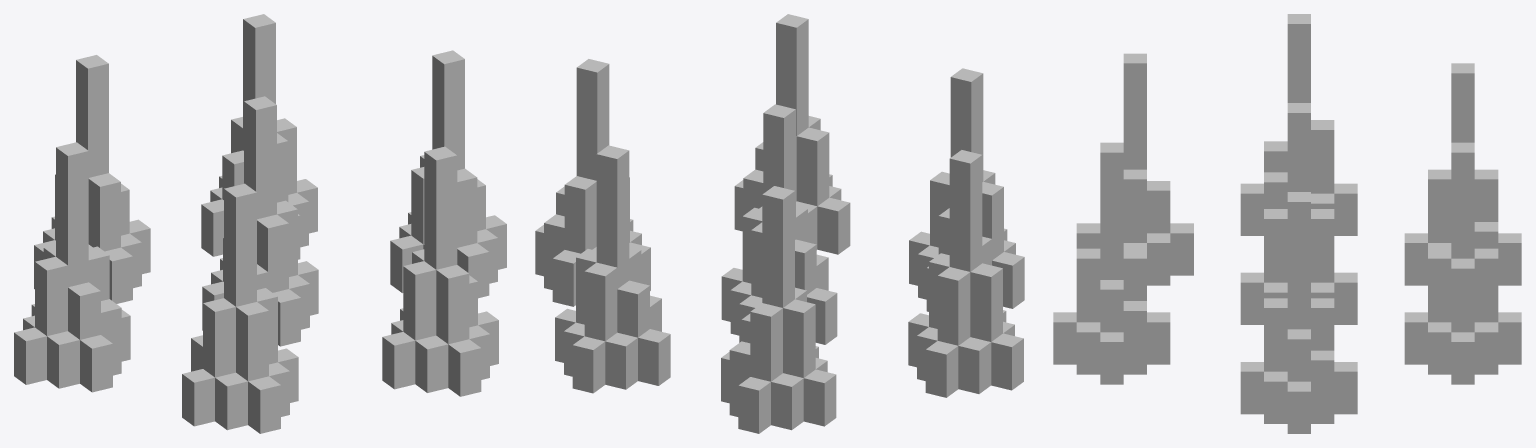
Rendered from Spike-0.obj.
The picture shows the model from 3 angles, left to right: view 1: azimuth 30°, elevation 25°; view 2: azimuth 150°, elevation 25°; view 3: azimuth 270°, elevation 25°; orthographic projection. The views are drawn at different scales.
Bounding box in the file's own units: 2.3 × 1 × 2.
Materials: 1 (1 with a texture image).
